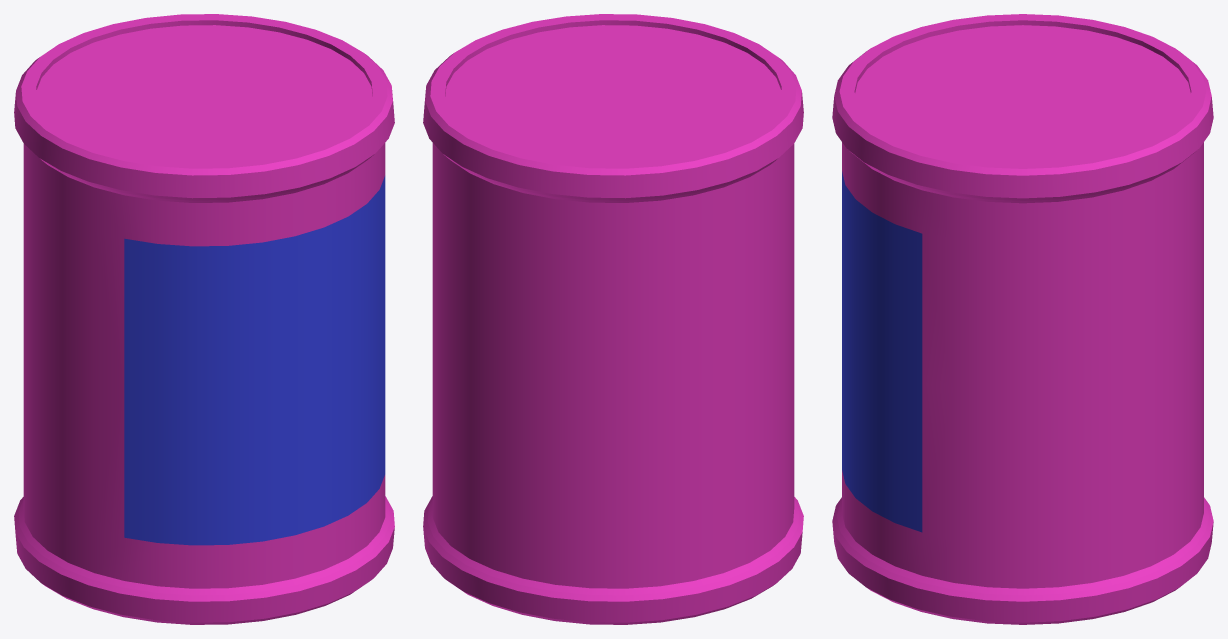
Rendered from can.fbx.
3 views of the same model, side by side, from view 1: azimuth 30°, elevation 25°; view 2: azimuth 150°, elevation 25°; view 3: azimuth 270°, elevation 25° (orthographic).
Visible parts, largest first — view 1: Cylinder, Cylinder.001; view 2: Cylinder; view 3: Cylinder, Cylinder.001.
Part boxes in pixels (x1,y1,x2,y2): Cylinder: [14, 14, 394, 624]; Cylinder.001: [124, 175, 385, 545]; Cylinder: [423, 14, 803, 624]; Cylinder: [832, 14, 1213, 624]; Cylinder.001: [842, 171, 922, 532].
Size of the model in its own units: 51.89 by 68.45 by 51.89.
